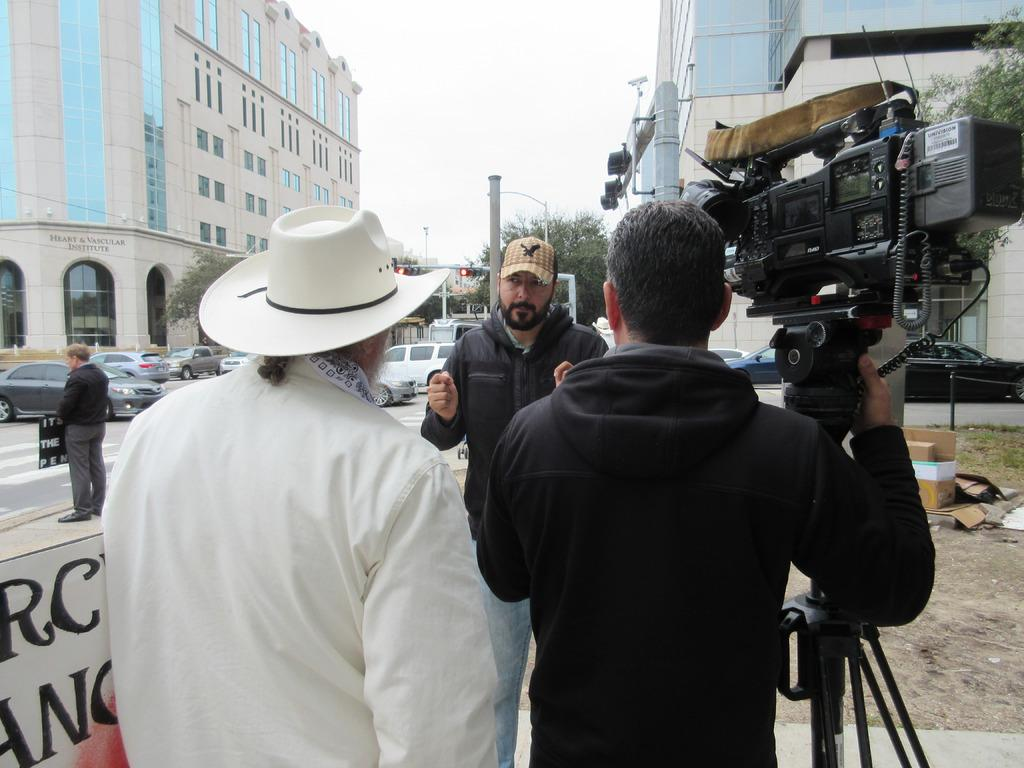Hat: (194, 206, 448, 358), (497, 236, 558, 286)
